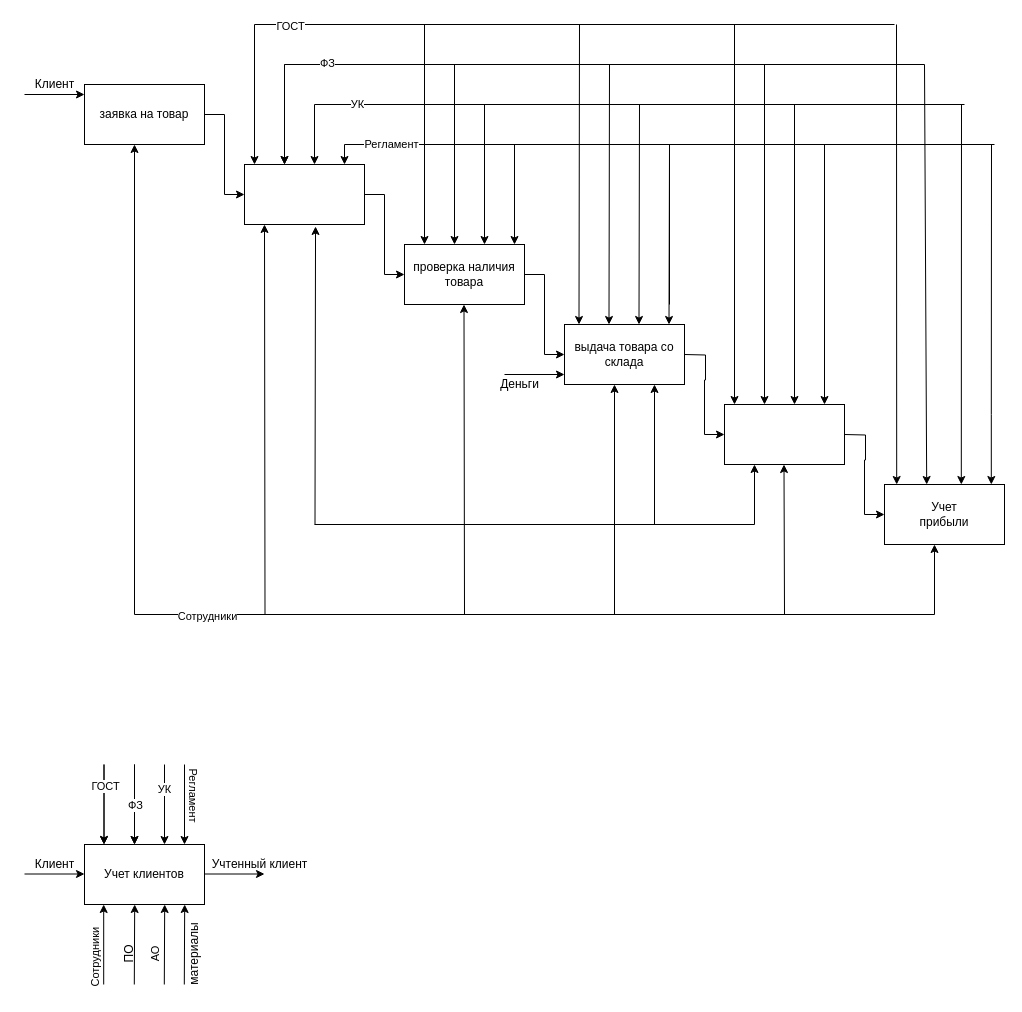
Image size: 1022x1012. Some labels were removed from this diagram. Here are the shapes that lost their labels. From the top down, the centre of each, then its label:
point 304,194: обработка заявки
point 784,434: Отчет продажи
